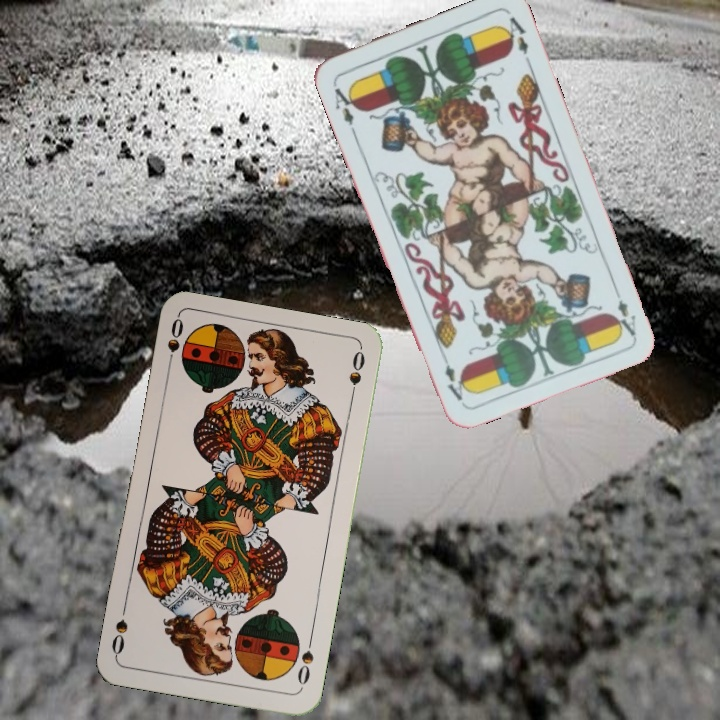EA: (609, 282, 639, 339), (329, 79, 361, 128)
SO: (162, 315, 186, 373), (293, 633, 316, 687)
